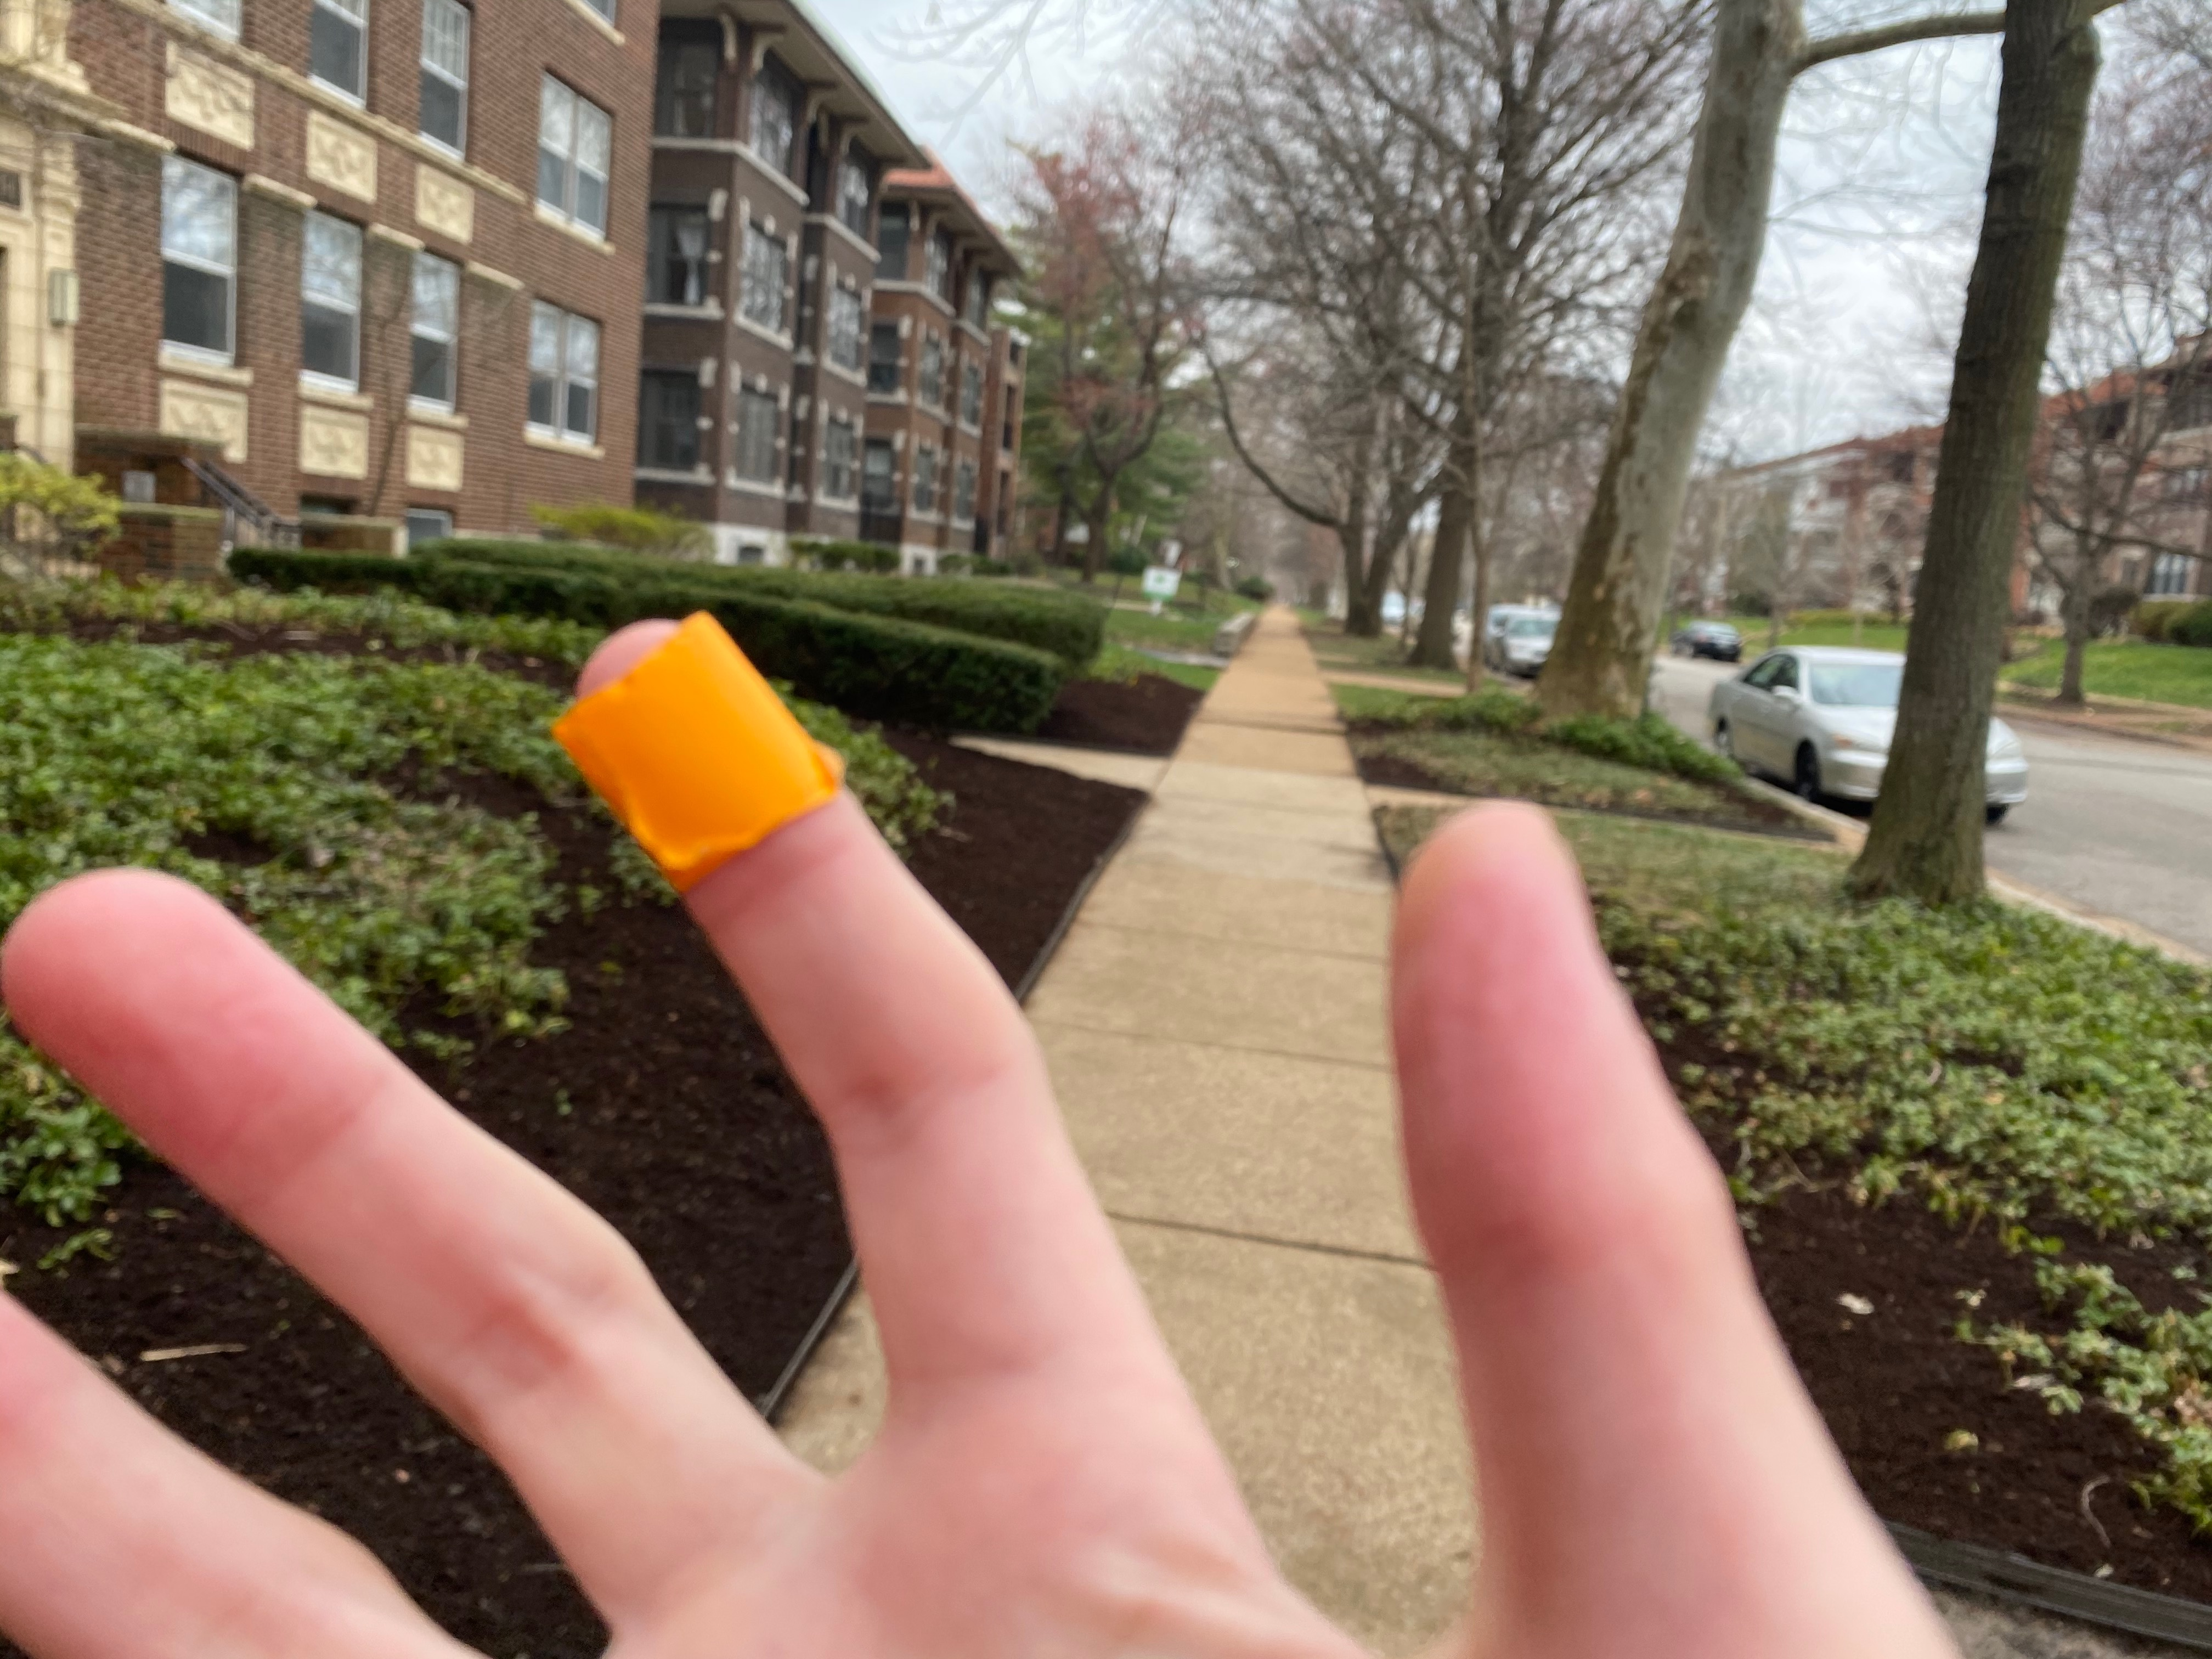fingertip: (529, 579, 843, 920)
